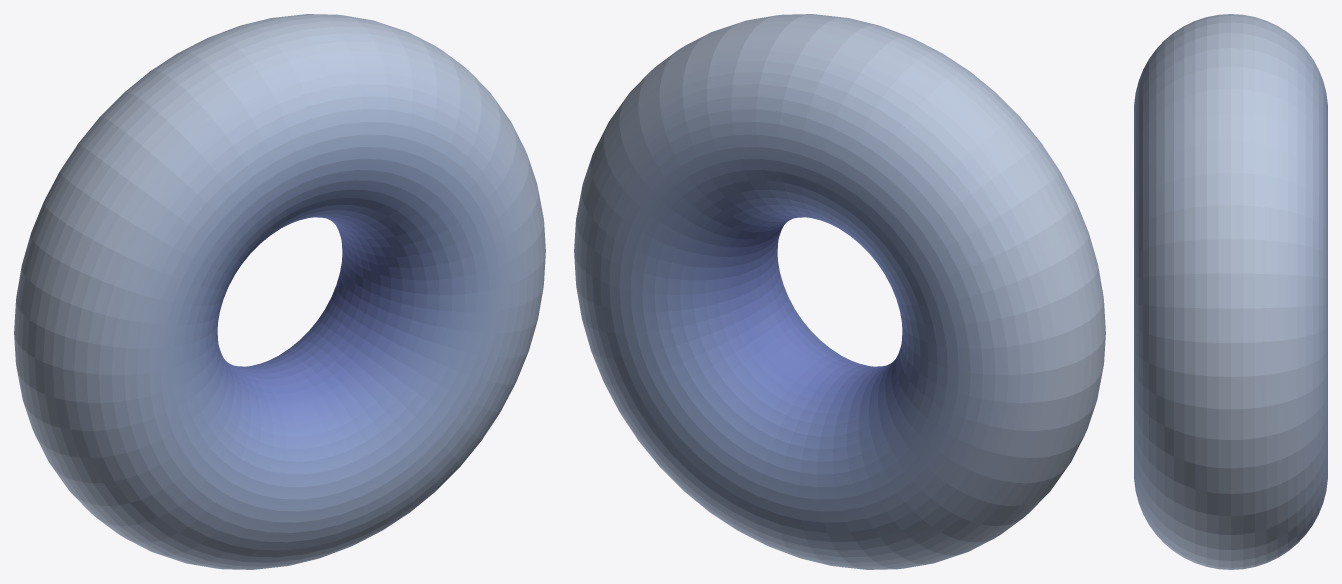
3 renders of one model, left to right at view 1: azimuth 30°, elevation 25°; view 2: azimuth 150°, elevation 25°; view 3: azimuth 270°, elevation 25°, orthographic. The views are drawn at different scales.
Visible parts, largest first — view 1: world; view 2: world; view 3: world.
Part boxes in pixels (x1,y1,x2,y2): world: (14,14,545,569); world: (574,14,1105,569); world: (1134,14,1327,569).
Bounding box in the file's own units: 19.47 × 19.43 × 6.79.
